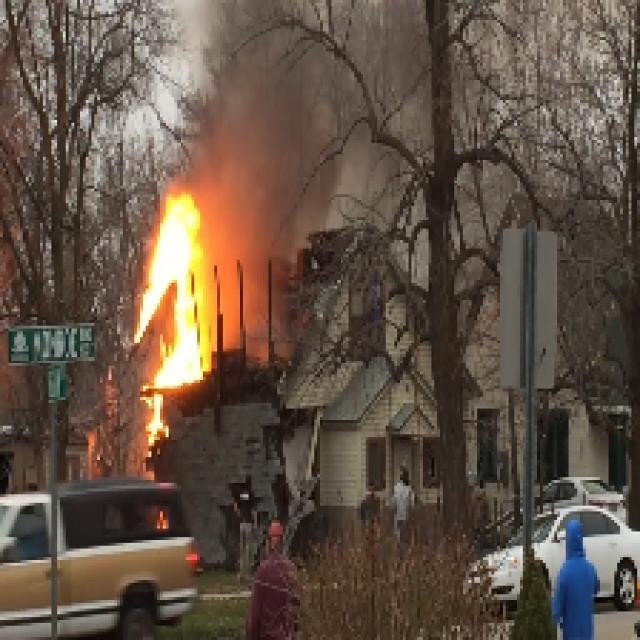Fire: (132, 198, 218, 388)
Smoke: (216, 54, 304, 235)
